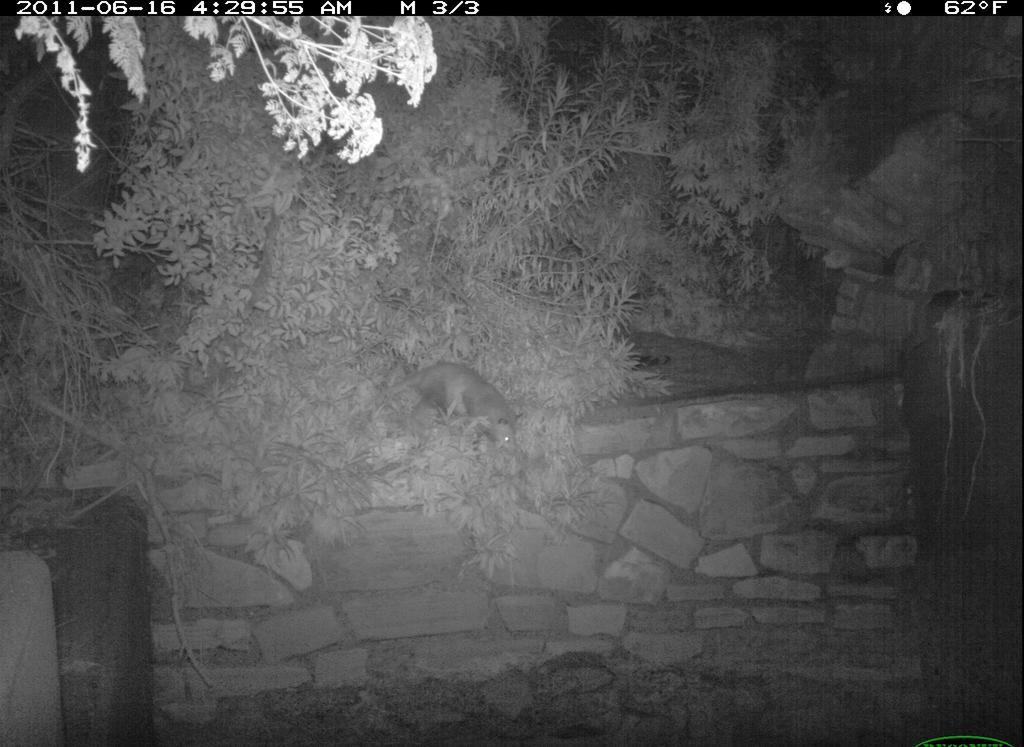opossum: (383, 353, 532, 461)
